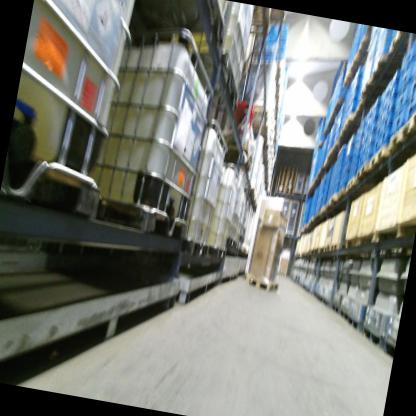pallet: (363, 53, 410, 102), (216, 135, 256, 171), (367, 138, 402, 177), (235, 102, 272, 134), (388, 115, 416, 156), (383, 29, 413, 61), (248, 6, 274, 37), (353, 160, 384, 185), (244, 274, 280, 292), (356, 82, 383, 106), (351, 96, 376, 120), (406, 77, 416, 134), (348, 54, 367, 78), (355, 35, 371, 57), (337, 125, 356, 143), (342, 72, 355, 91), (346, 177, 361, 192), (332, 98, 347, 113), (241, 180, 255, 195), (345, 114, 356, 130), (246, 191, 257, 205), (329, 188, 337, 207), (336, 185, 346, 199), (323, 199, 330, 212), (288, 167, 299, 172), (287, 171, 297, 175), (275, 190, 284, 194), (275, 188, 284, 192), (279, 168, 288, 172), (285, 180, 294, 184), (287, 174, 296, 178), (287, 173, 296, 177), (278, 176, 286, 180), (279, 172, 287, 176), (284, 190, 292, 194), (287, 170, 297, 173), (285, 185, 294, 188), (285, 183, 294, 186), (286, 178, 295, 181), (277, 185, 285, 188), (277, 183, 285, 186), (277, 181, 285, 184), (278, 180, 286, 183), (284, 189, 292, 192), (285, 187, 293, 190), (279, 175, 286, 178), (280, 171, 287, 174), (286, 177, 295, 179), (276, 187, 284, 189), (279, 179, 285, 181)
small_load_carrier: (391, 82, 408, 122), (399, 40, 416, 78), (383, 94, 402, 120), (395, 64, 410, 94), (379, 124, 395, 149), (391, 107, 405, 135), (406, 70, 416, 105), (388, 78, 403, 101), (404, 99, 416, 124), (384, 110, 398, 130), (390, 69, 402, 90), (410, 48, 416, 80)
